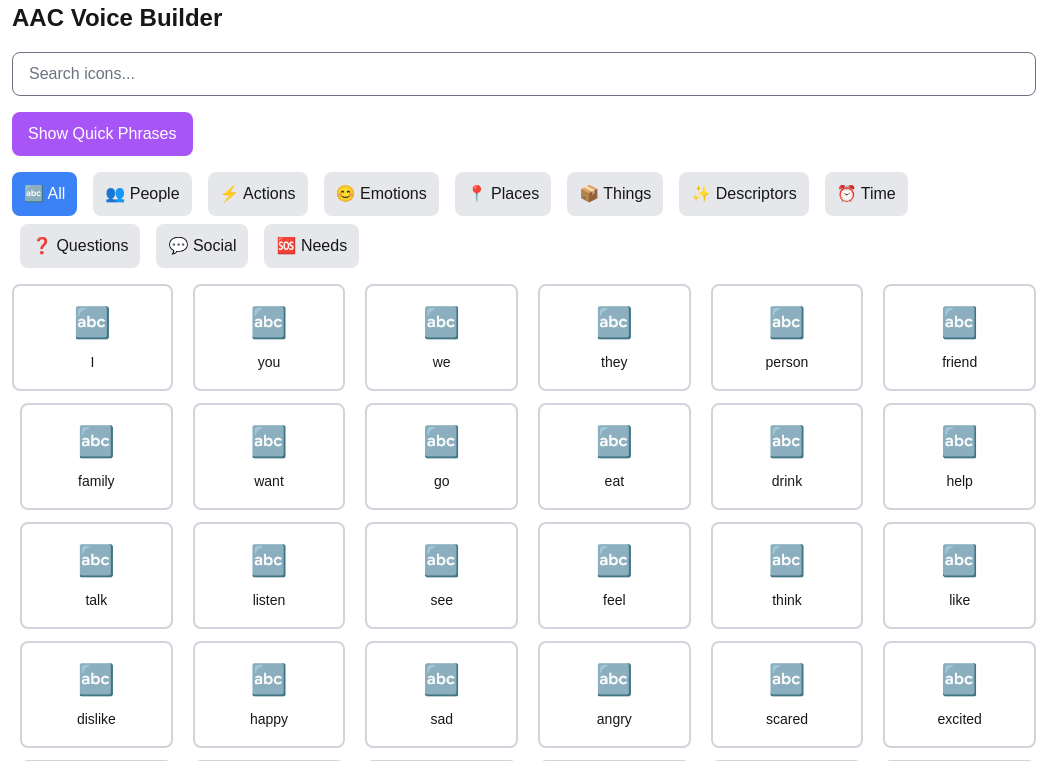
Test: AACIconSelector › Search functionality › should show no results message when search has no matches
In the field named "search for aac icons": [524, 74] box [12,52,1036,96], type "nonexistenticon"
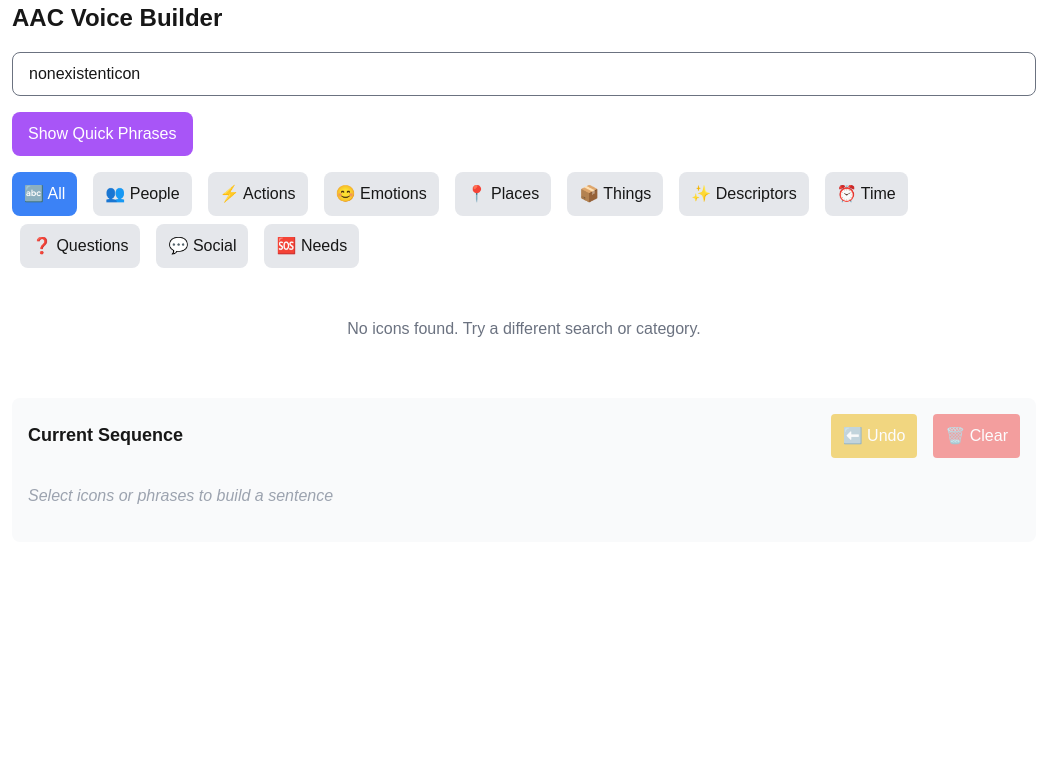
expect the text "No icons found. Try a different search or category." is shown: met, box [347,320,701,337]
